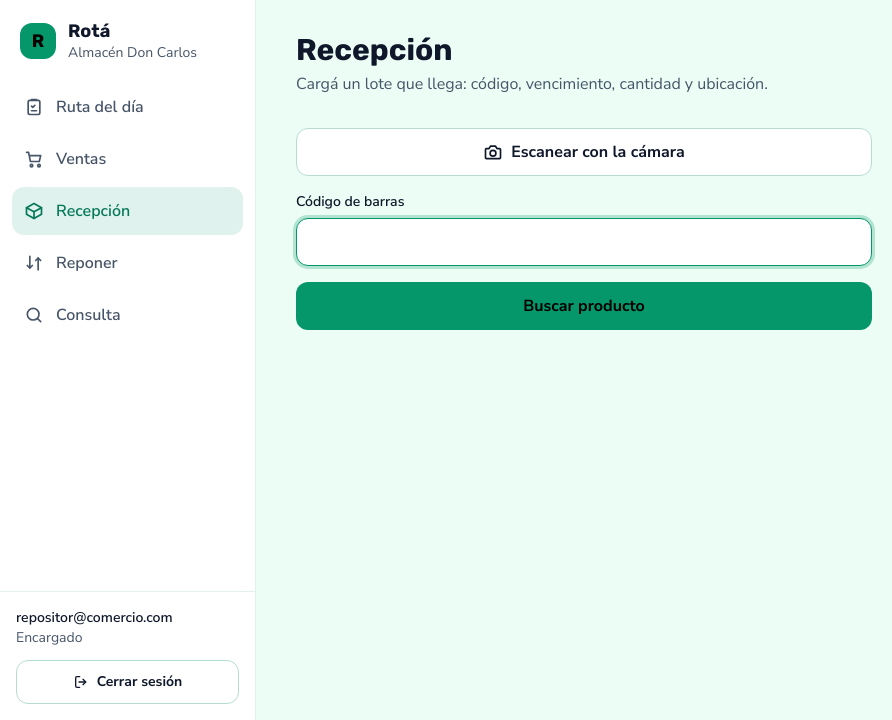
Test: Recepción con escaneo (HU-27) › si el código leído no existe, sigue el flujo de carga manual
Click the button "Escanear con la cámara": (584, 152) x1=296 y1=128 x2=872 y2=176
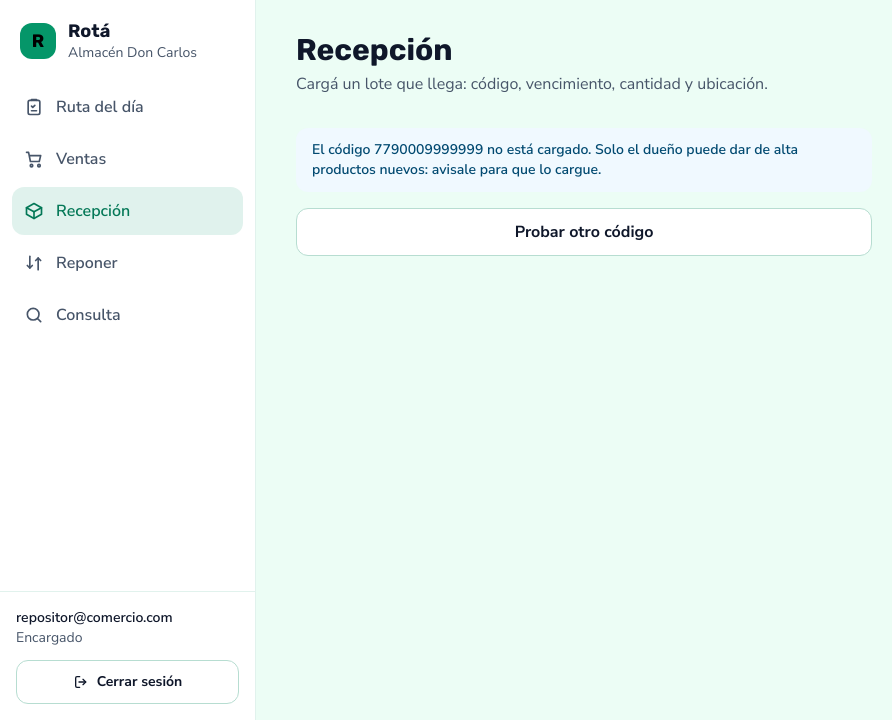
Expected: the text "El código 7790009999999 no está cargado" is shown, x1=296 y1=128 x2=872 y2=192
